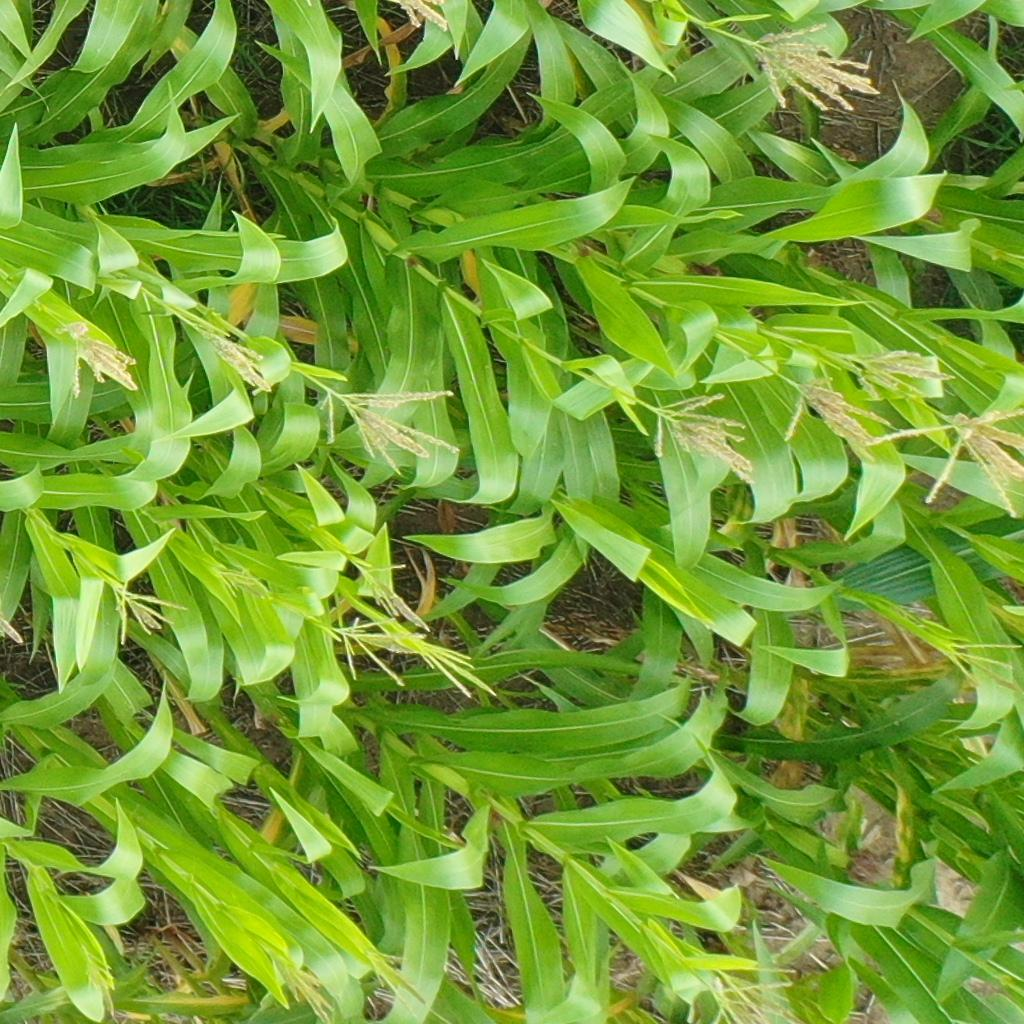Tassel: (865, 406, 1024, 517), (313, 383, 464, 481), (751, 21, 883, 118), (648, 389, 759, 489), (780, 372, 898, 462), (54, 315, 138, 403), (190, 315, 274, 391), (846, 346, 955, 401), (331, 615, 410, 689), (354, 557, 432, 631), (412, 637, 500, 701), (112, 578, 189, 648), (270, 951, 340, 1024), (721, 963, 812, 1018), (712, 979, 807, 1024), (364, 947, 432, 1006), (941, 637, 1021, 681), (79, 950, 121, 1016), (218, 560, 276, 604), (392, 1, 450, 34), (1, 612, 30, 648)
